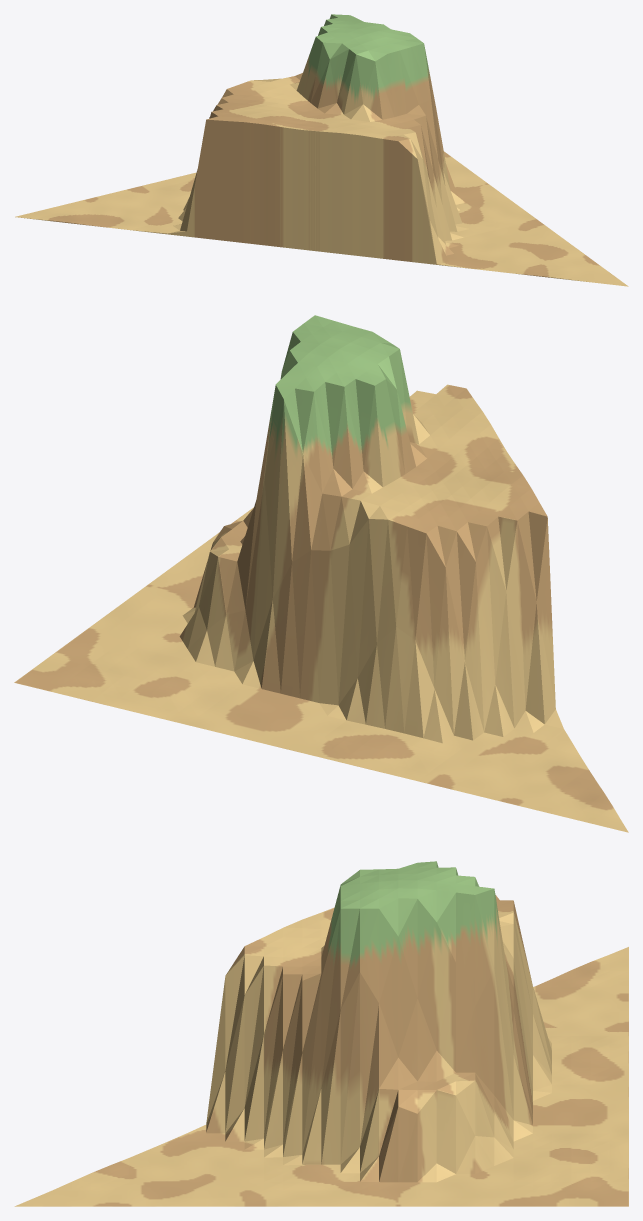
Rendered from Desert_Mountains_11_SE.obj.
3 views of the same model, one above another, from view 1: azimuth 30°, elevation 25°; view 2: azimuth 150°, elevation 25°; view 3: azimuth 270°, elevation 25° (orthographic). The views are drawn at different scales.
Size of the model in its own units: 10 by 4.4 by 10.
1 material, 1 textured.
